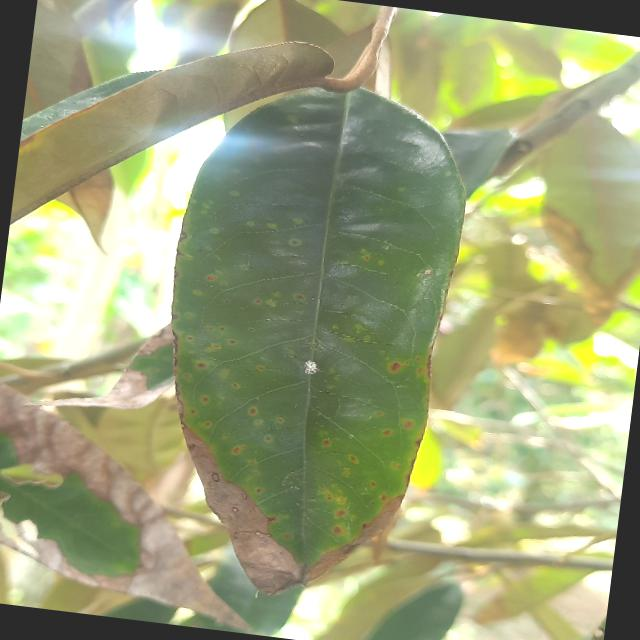Leaf Spot: (127, 56, 486, 626)
